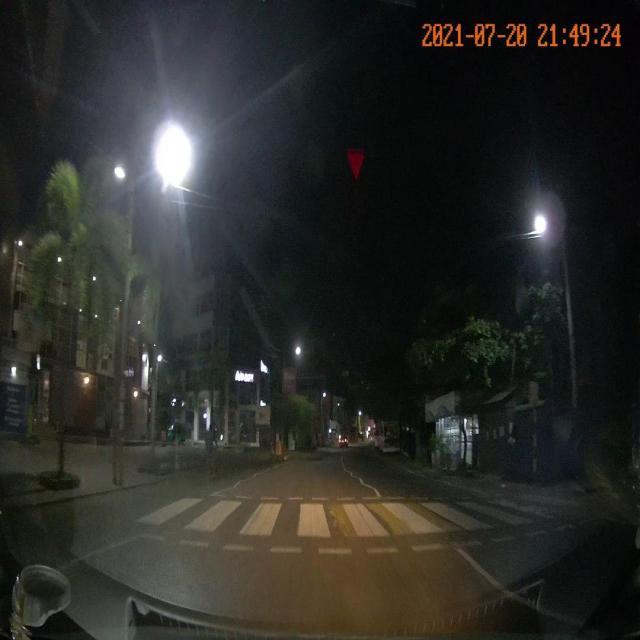Crosswalk: (125, 487, 588, 557)
